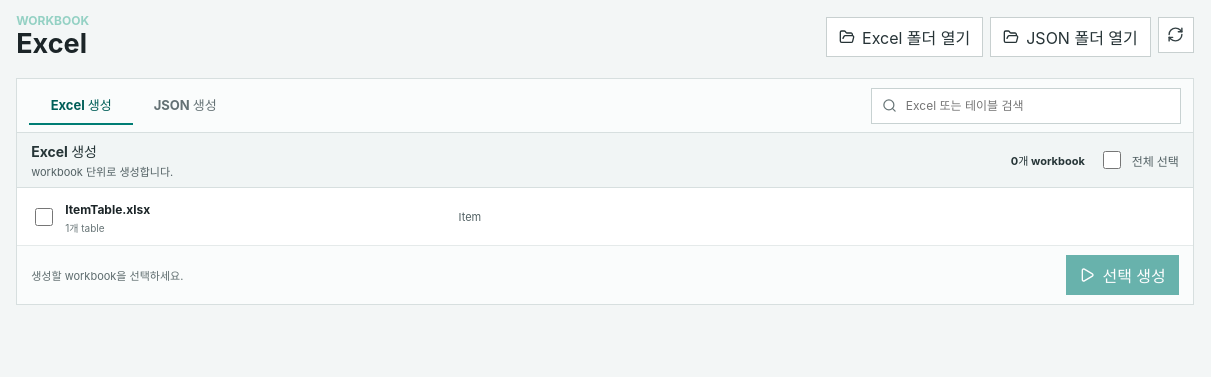
Test case: ExcelScreen collision policy › blocks workbook generation before worker/native writes when key policy is violated
Click the checkbox named "ItemTable.xlsx Excel 생성". click: click(44, 217)
box: [35,208,53,226]
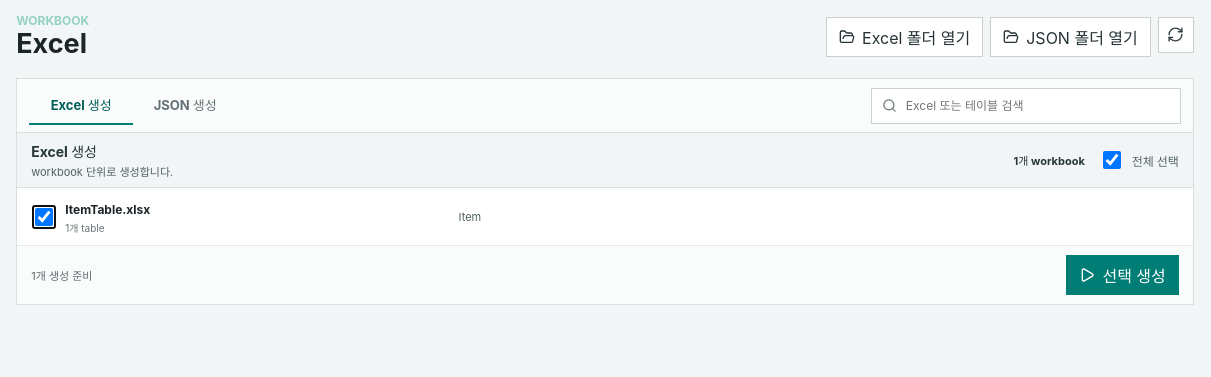
Click the button "선택 생성". click: click(1123, 275)
box: [1066,255,1179,295]
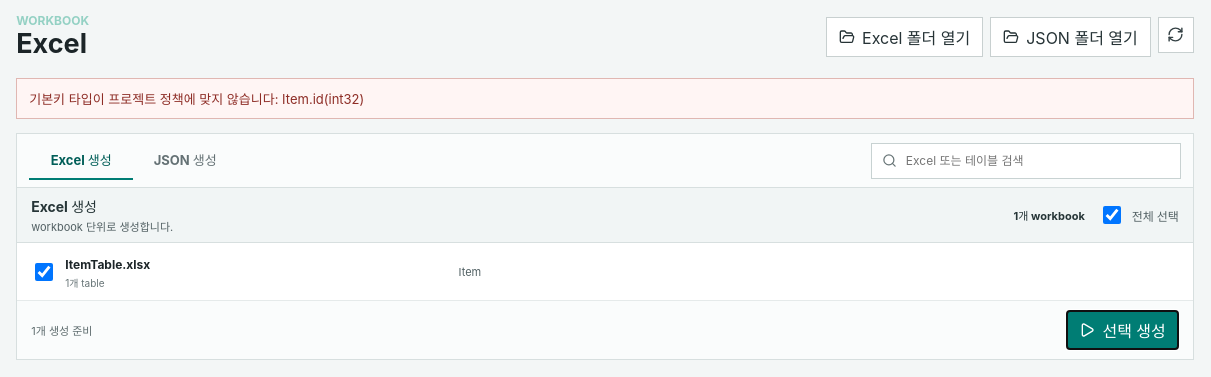
Now the text "기본키 타입이 프로젝트 정책에 맞지 않습니다: Item.id(int32)" is shown, box [16,78,1194,119]
